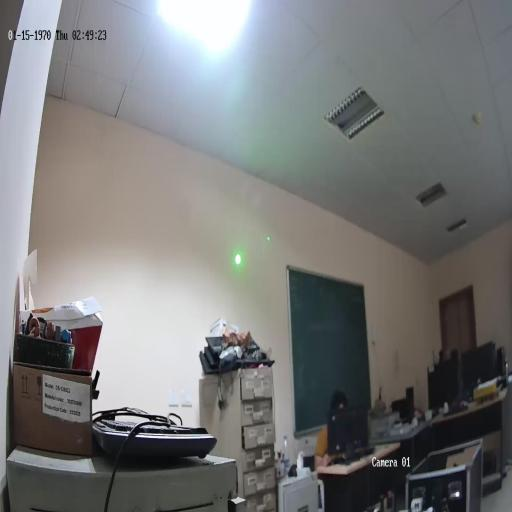laser: (233, 250, 243, 270)
